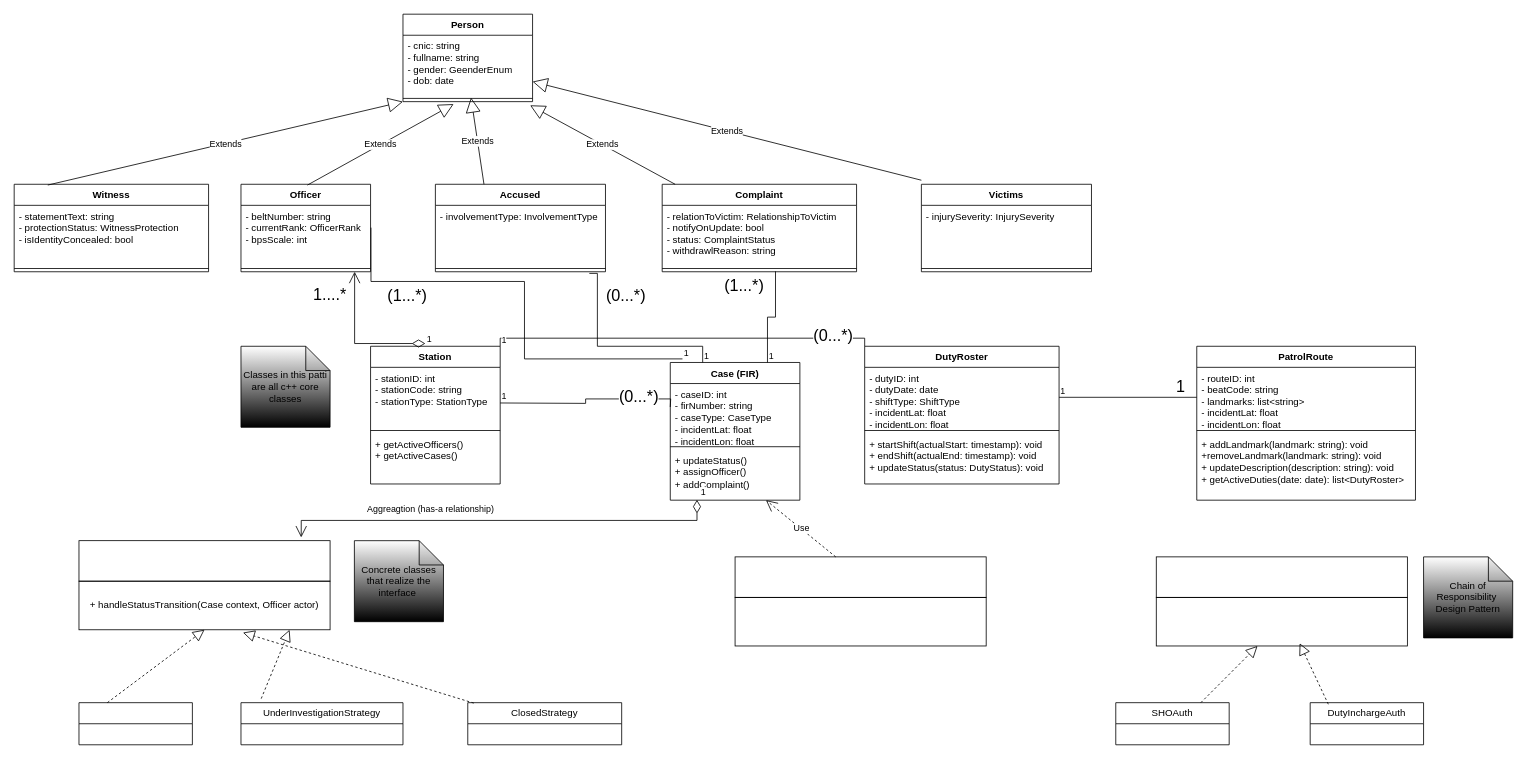
Some shapes in this 1527 by 759 pixel diagram are drawn without their labels. The shapes that lost their labels are listed below. From the top down, each one's centre as x and y in pixels, then its label:
At pixel 204 560: "«interface» ICaseStatusStrategy".
At pixel 860 576: "«interface» CaseFactory".
At pixel 1281 576: "«interface» IAuthHandler".
At pixel 860 621: "+ createCaseEntity(caseDetails: struct): Case".
At pixel 1281 621: "+ setNext(IAuthHandler next) + validate(Officer actor, string action)".
At pixel 135 723: "RegisteredStrategy".
